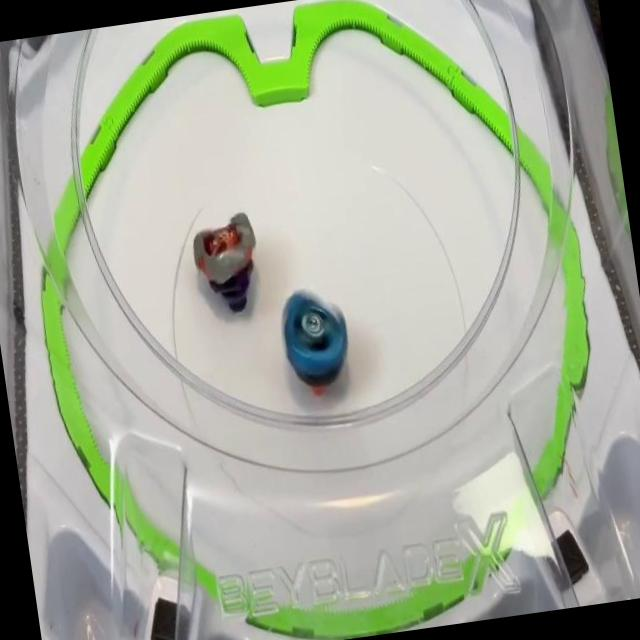Beyblade: (275, 284, 357, 400), (188, 210, 266, 318)
